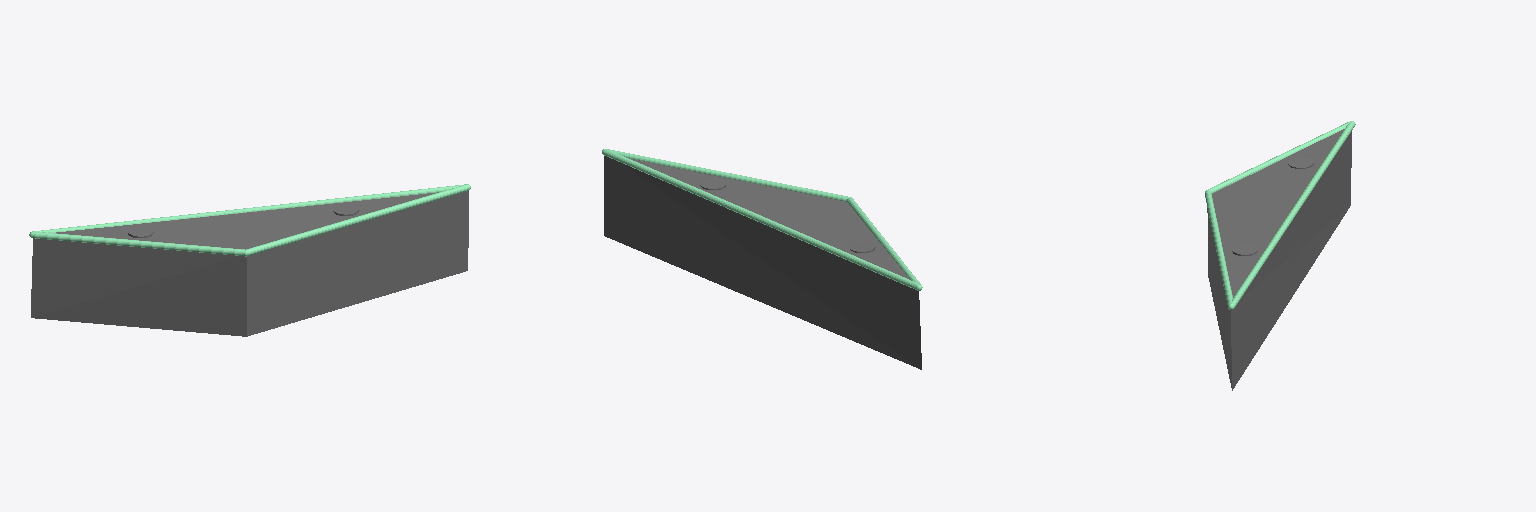
3 views of the same model, side by side, from view 1: azimuth 30°, elevation 25°; view 2: azimuth 150°, elevation 25°; view 3: azimuth 270°, elevation 25° (orthographic).
Visible parts, largest first — view 1: Cubo_001_Cubo_002, Cylinder003; view 2: Cubo_001_Cubo_002, Cylinder003; view 3: Cubo_001_Cubo_002, Cylinder003.
Part boxes in pixels (x1,y1,x2,y2): Cubo_001_Cubo_002: (31,191,468,336); Cylinder003: (29,184,470,256); Cubo_001_Cubo_002: (604,156,921,369); Cylinder003: (602,149,922,290); Cubo_001_Cubo_002: (1207,129,1351,390); Cylinder003: (1205,121,1355,309).
Size of the model in its own units: 9.52 by 2.09 by 3.28.
Materials: 3 (1 with a texture image).